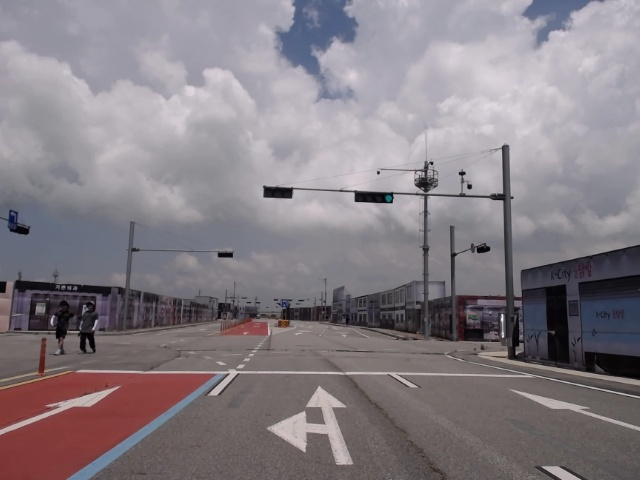straight_green_4: (354, 189, 396, 206)
